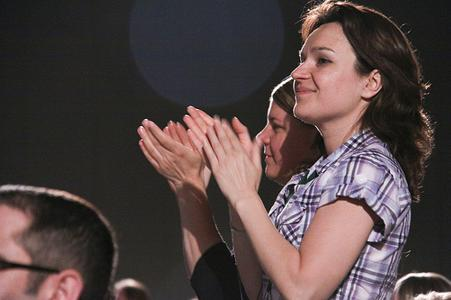person: (131, 5, 436, 297)
